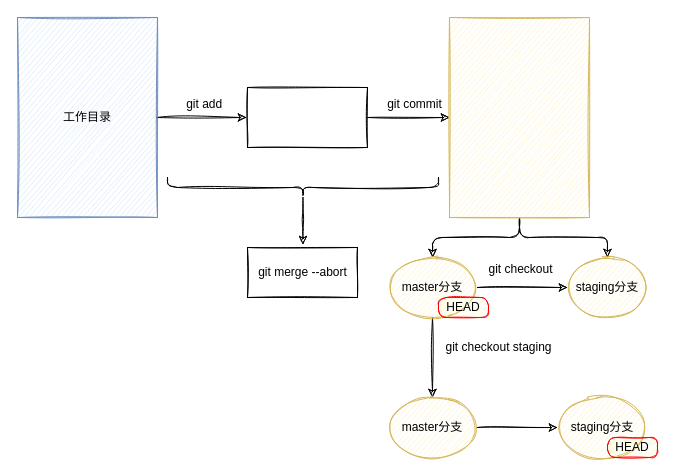
This 675x475 diagram has some shape labels left out. The shapes that lost their labels are listed below. From the top down, each one's centre as x and y in pixels, then its label:
At point 307,117: "暂存区".
At point 519,117: "本地仓库 （local repository）".
At point 302,187: "git merge 流程".
